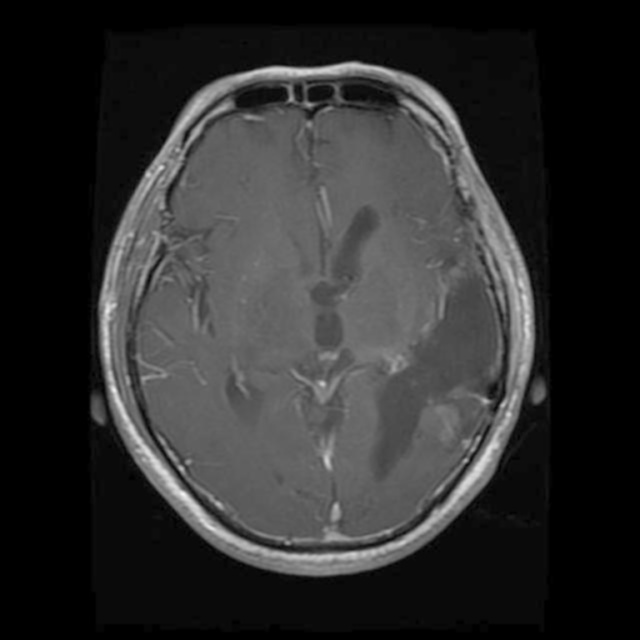pituitary tumor: (418, 402, 462, 447)
